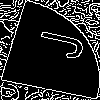J: (24, 25, 87, 62)
